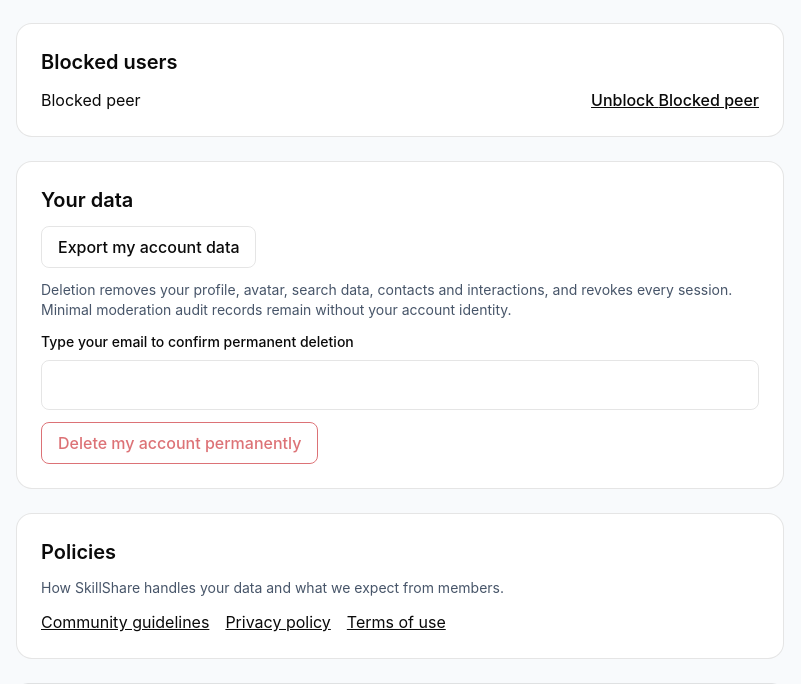
Test case: requires exact account confirmation and retains the account on failed deletion
(page scrolled)
Expected: the button "Delete my account permanently" is disabled, [41, 422, 318, 464]
Type "owner@illinois.edu" into the field labelled "Type your email to confirm permanent deletion" at (400, 385), box [41, 360, 759, 410]
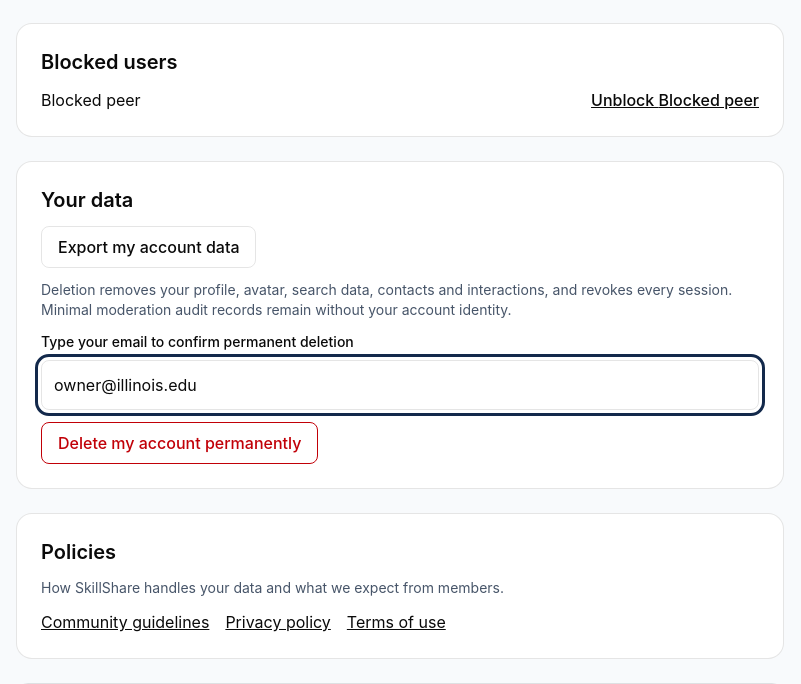
Click the button "Delete my account permanently" at (180, 443), box [41, 422, 318, 464]
(page scrolled)
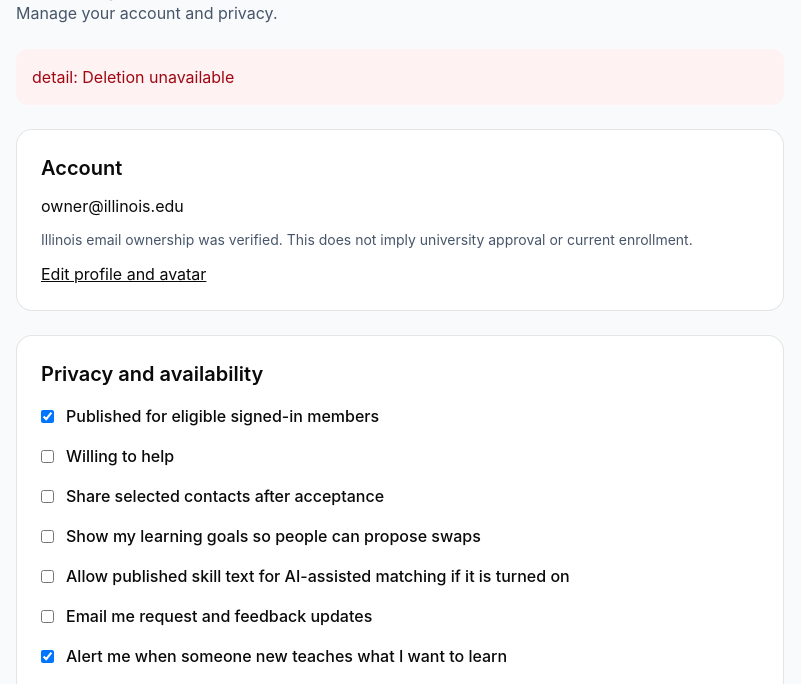
Expected: the message "detail: Deletion unavailable" is shown, [16, 49, 784, 105]
